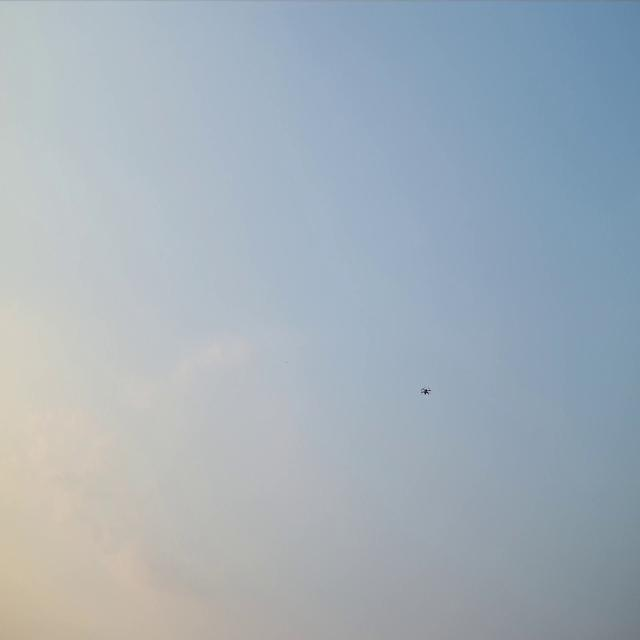UAV: (421, 386, 431, 396)
